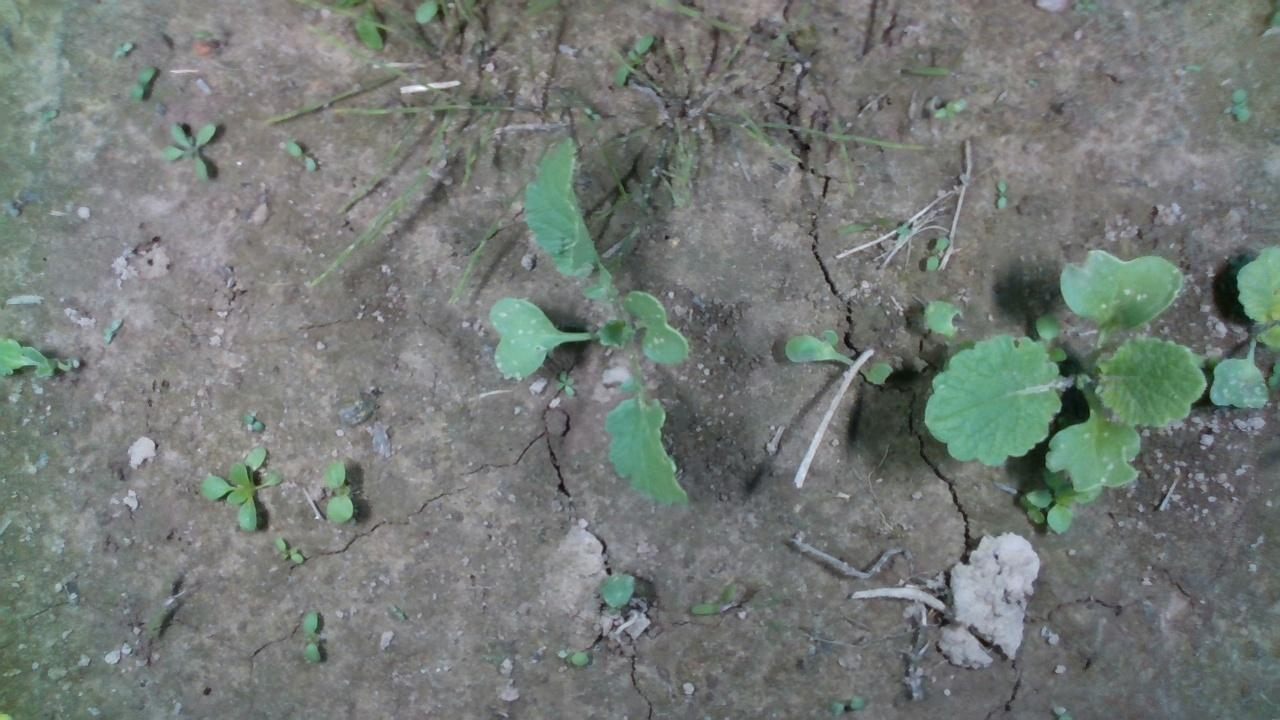weed: (161, 118, 221, 181), (320, 456, 353, 524), (688, 580, 738, 616), (299, 608, 322, 664), (126, 61, 157, 101), (283, 137, 318, 171), (272, 534, 303, 564), (924, 233, 949, 270), (828, 694, 866, 716), (98, 313, 122, 347), (107, 37, 134, 57), (993, 176, 1006, 211)
